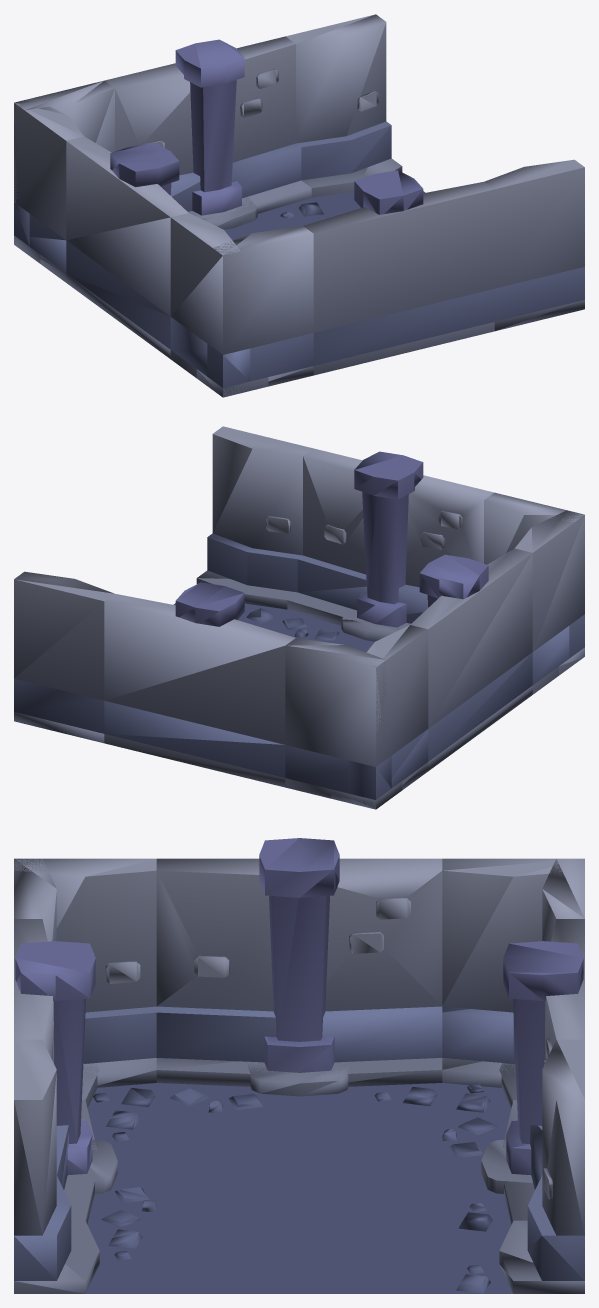
Rendered from corridor-wide-end_lev2.glb.
The picture shows the model from 3 angles, top to bottom: view 1: azimuth 30°, elevation 25°; view 2: azimuth 150°, elevation 25°; view 3: azimuth 270°, elevation 25°; orthographic projection. The views are drawn at different scales.
Visible parts, largest first — view 1: corridor-wide-end_lev2; view 2: corridor-wide-end_lev2; view 3: corridor-wide-end_lev2.
Boxes of the visible parts, x1,y1,x2,y2 form: corridor-wide-end_lev2: (14, 14, 584, 397); corridor-wide-end_lev2: (14, 426, 584, 809); corridor-wide-end_lev2: (14, 838, 584, 1293).
Bounding box in the file's own units: 8 × 3.33 × 8.
Materials: 1 (1 with a texture image).
